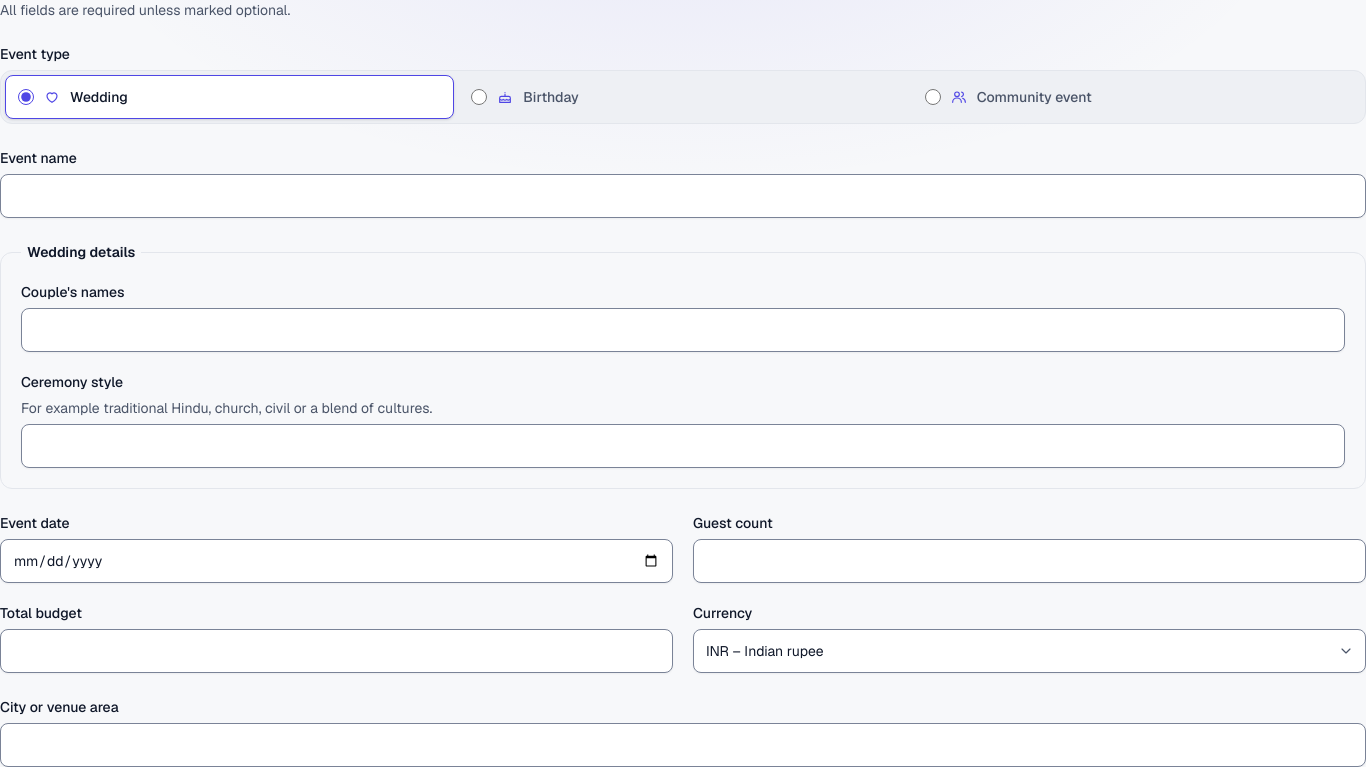
Test: IntakeForm event details › keeps typed details when switching away and back
Type "Asha and Ravi" into the field labelled "Couple's names". click: x=683, y=330
box: 21,308 -> 1345,352
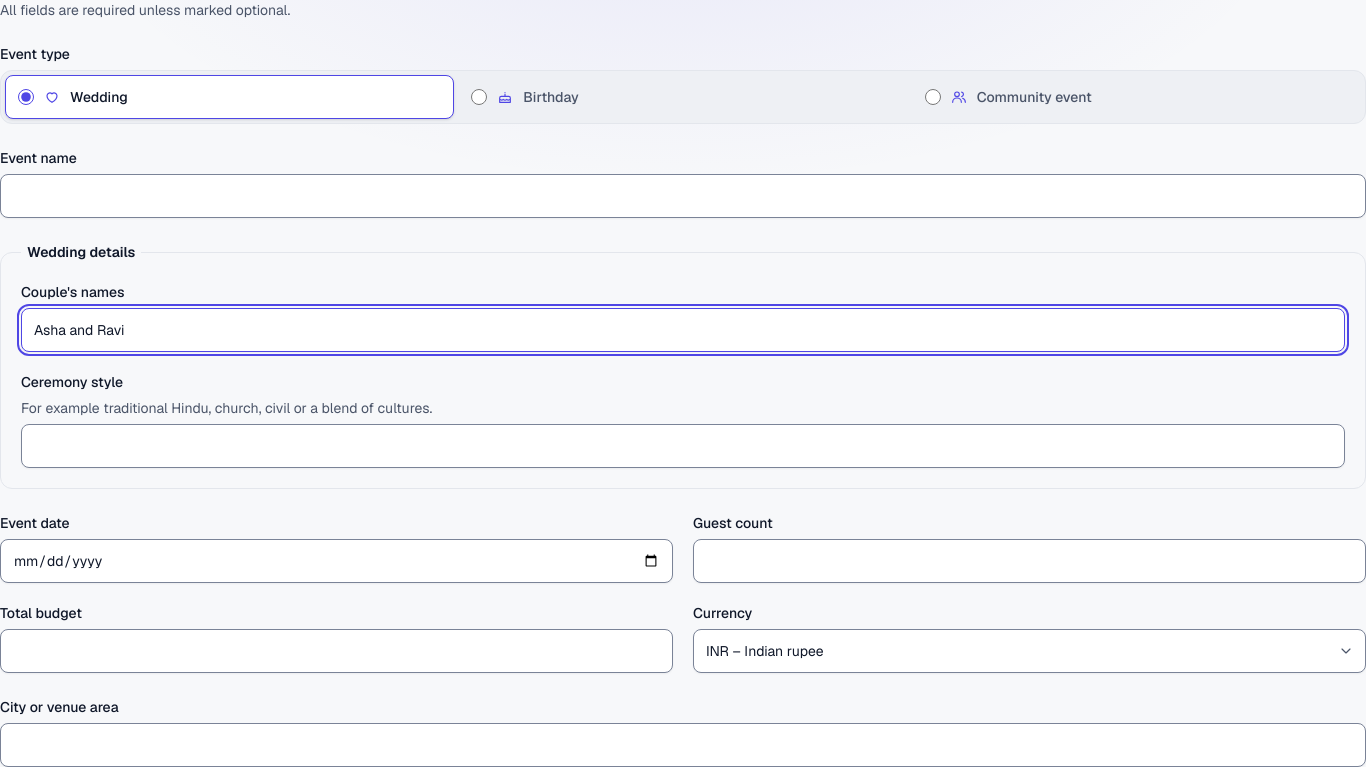
Click the radio button labelled "Birthday". click: x=479, y=97
box: 471,89 -> 487,105
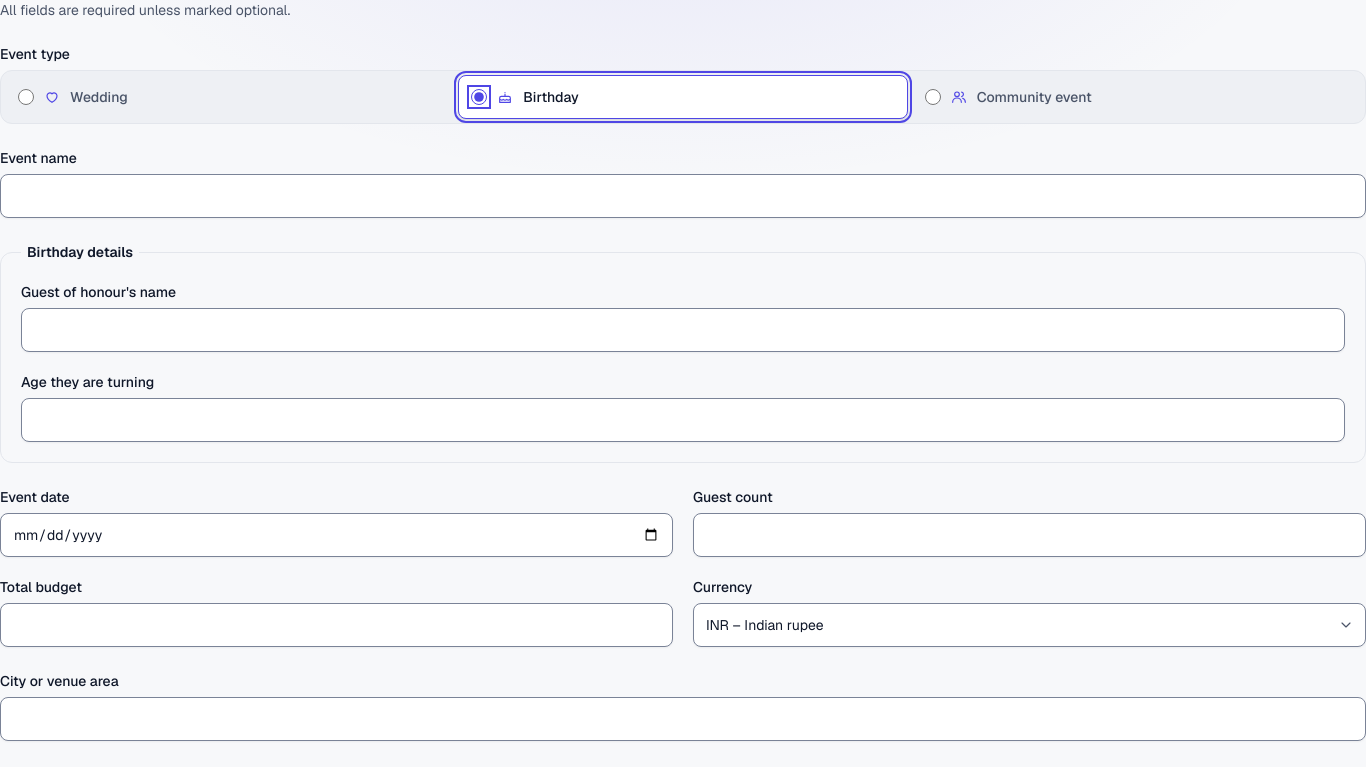
Click the radio button labelled "Wedding". click: x=26, y=97
box: 18,89 -> 34,105
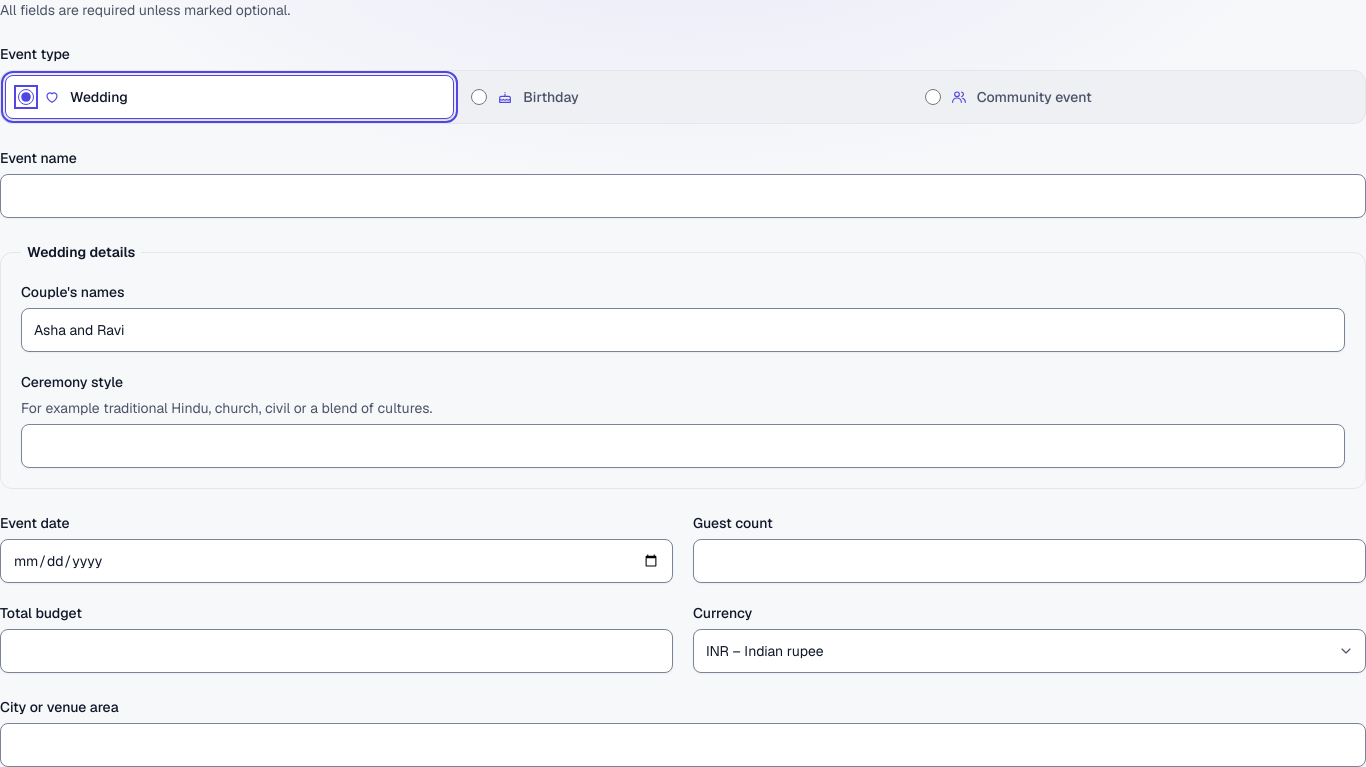
Now the field labelled "Couple's names" holds "Asha and Ravi", box 21,308 -> 1345,352
